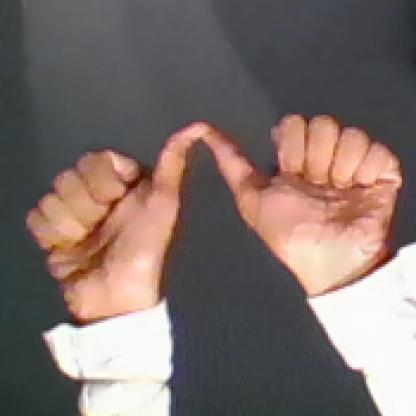A: (14, 105, 404, 299)
